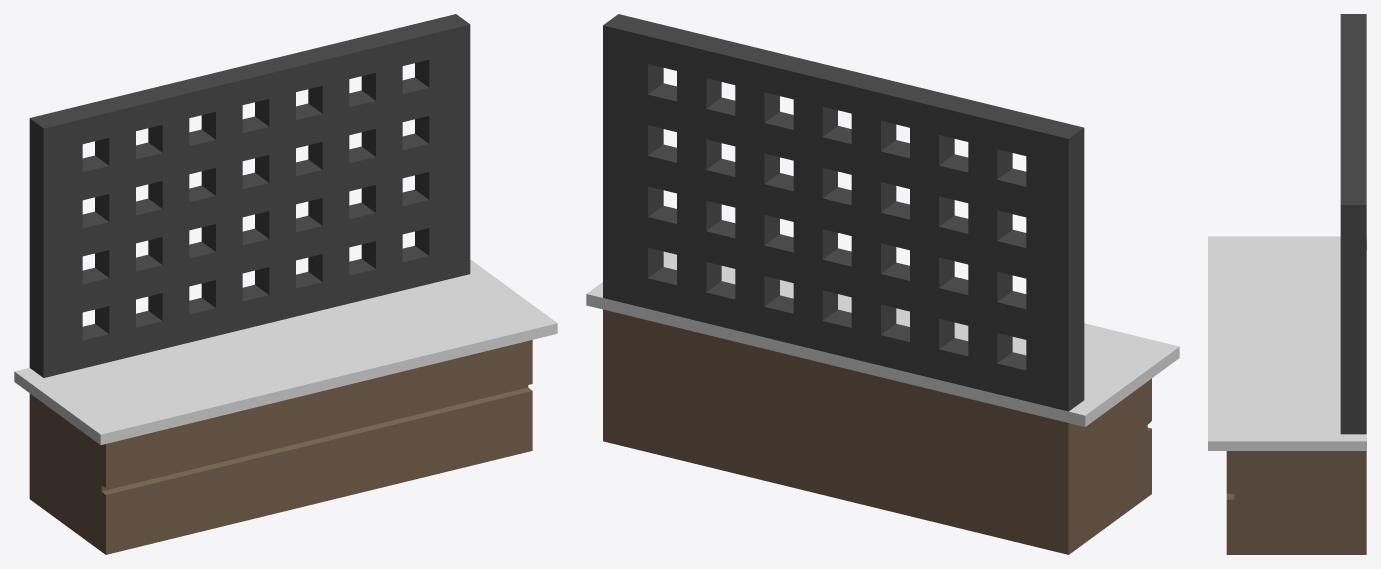
Rendered from Tool_Bench.fbx.
The picture shows the model from 3 angles, left to right: view 1: azimuth 30°, elevation 25°; view 2: azimuth 150°, elevation 25°; view 3: azimuth 270°, elevation 25°; orthographic projection. The views are drawn at different scales.
Visible parts, largest first — view 1: pCube4; view 2: pCube4; view 3: pCube4.
Part boxes in pixels (x1,y1,x2,y2): pCube4: (14,14,557,554); pCube4: (586,14,1179,554); pCube4: (1208,14,1366,554).
Bounding box in the file's own units: 3.21 × 2.56 × 1.05.
